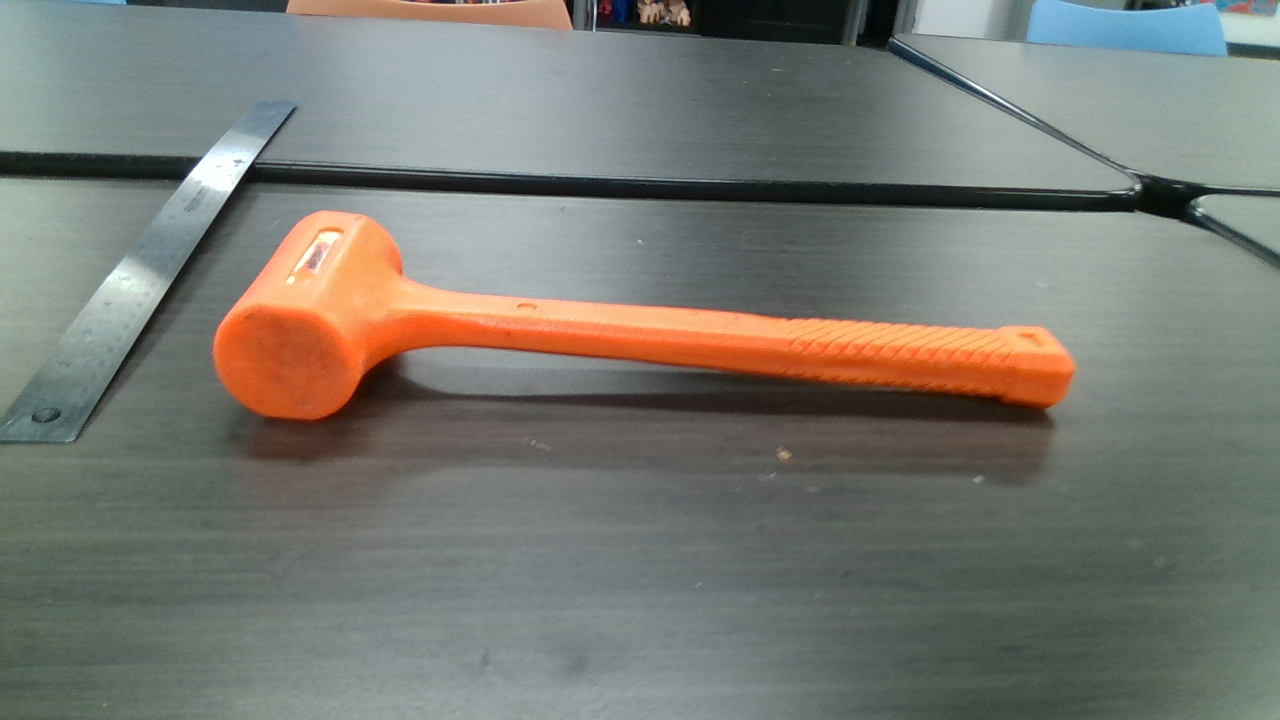Orange Hammer: (226, 209, 1070, 422)
